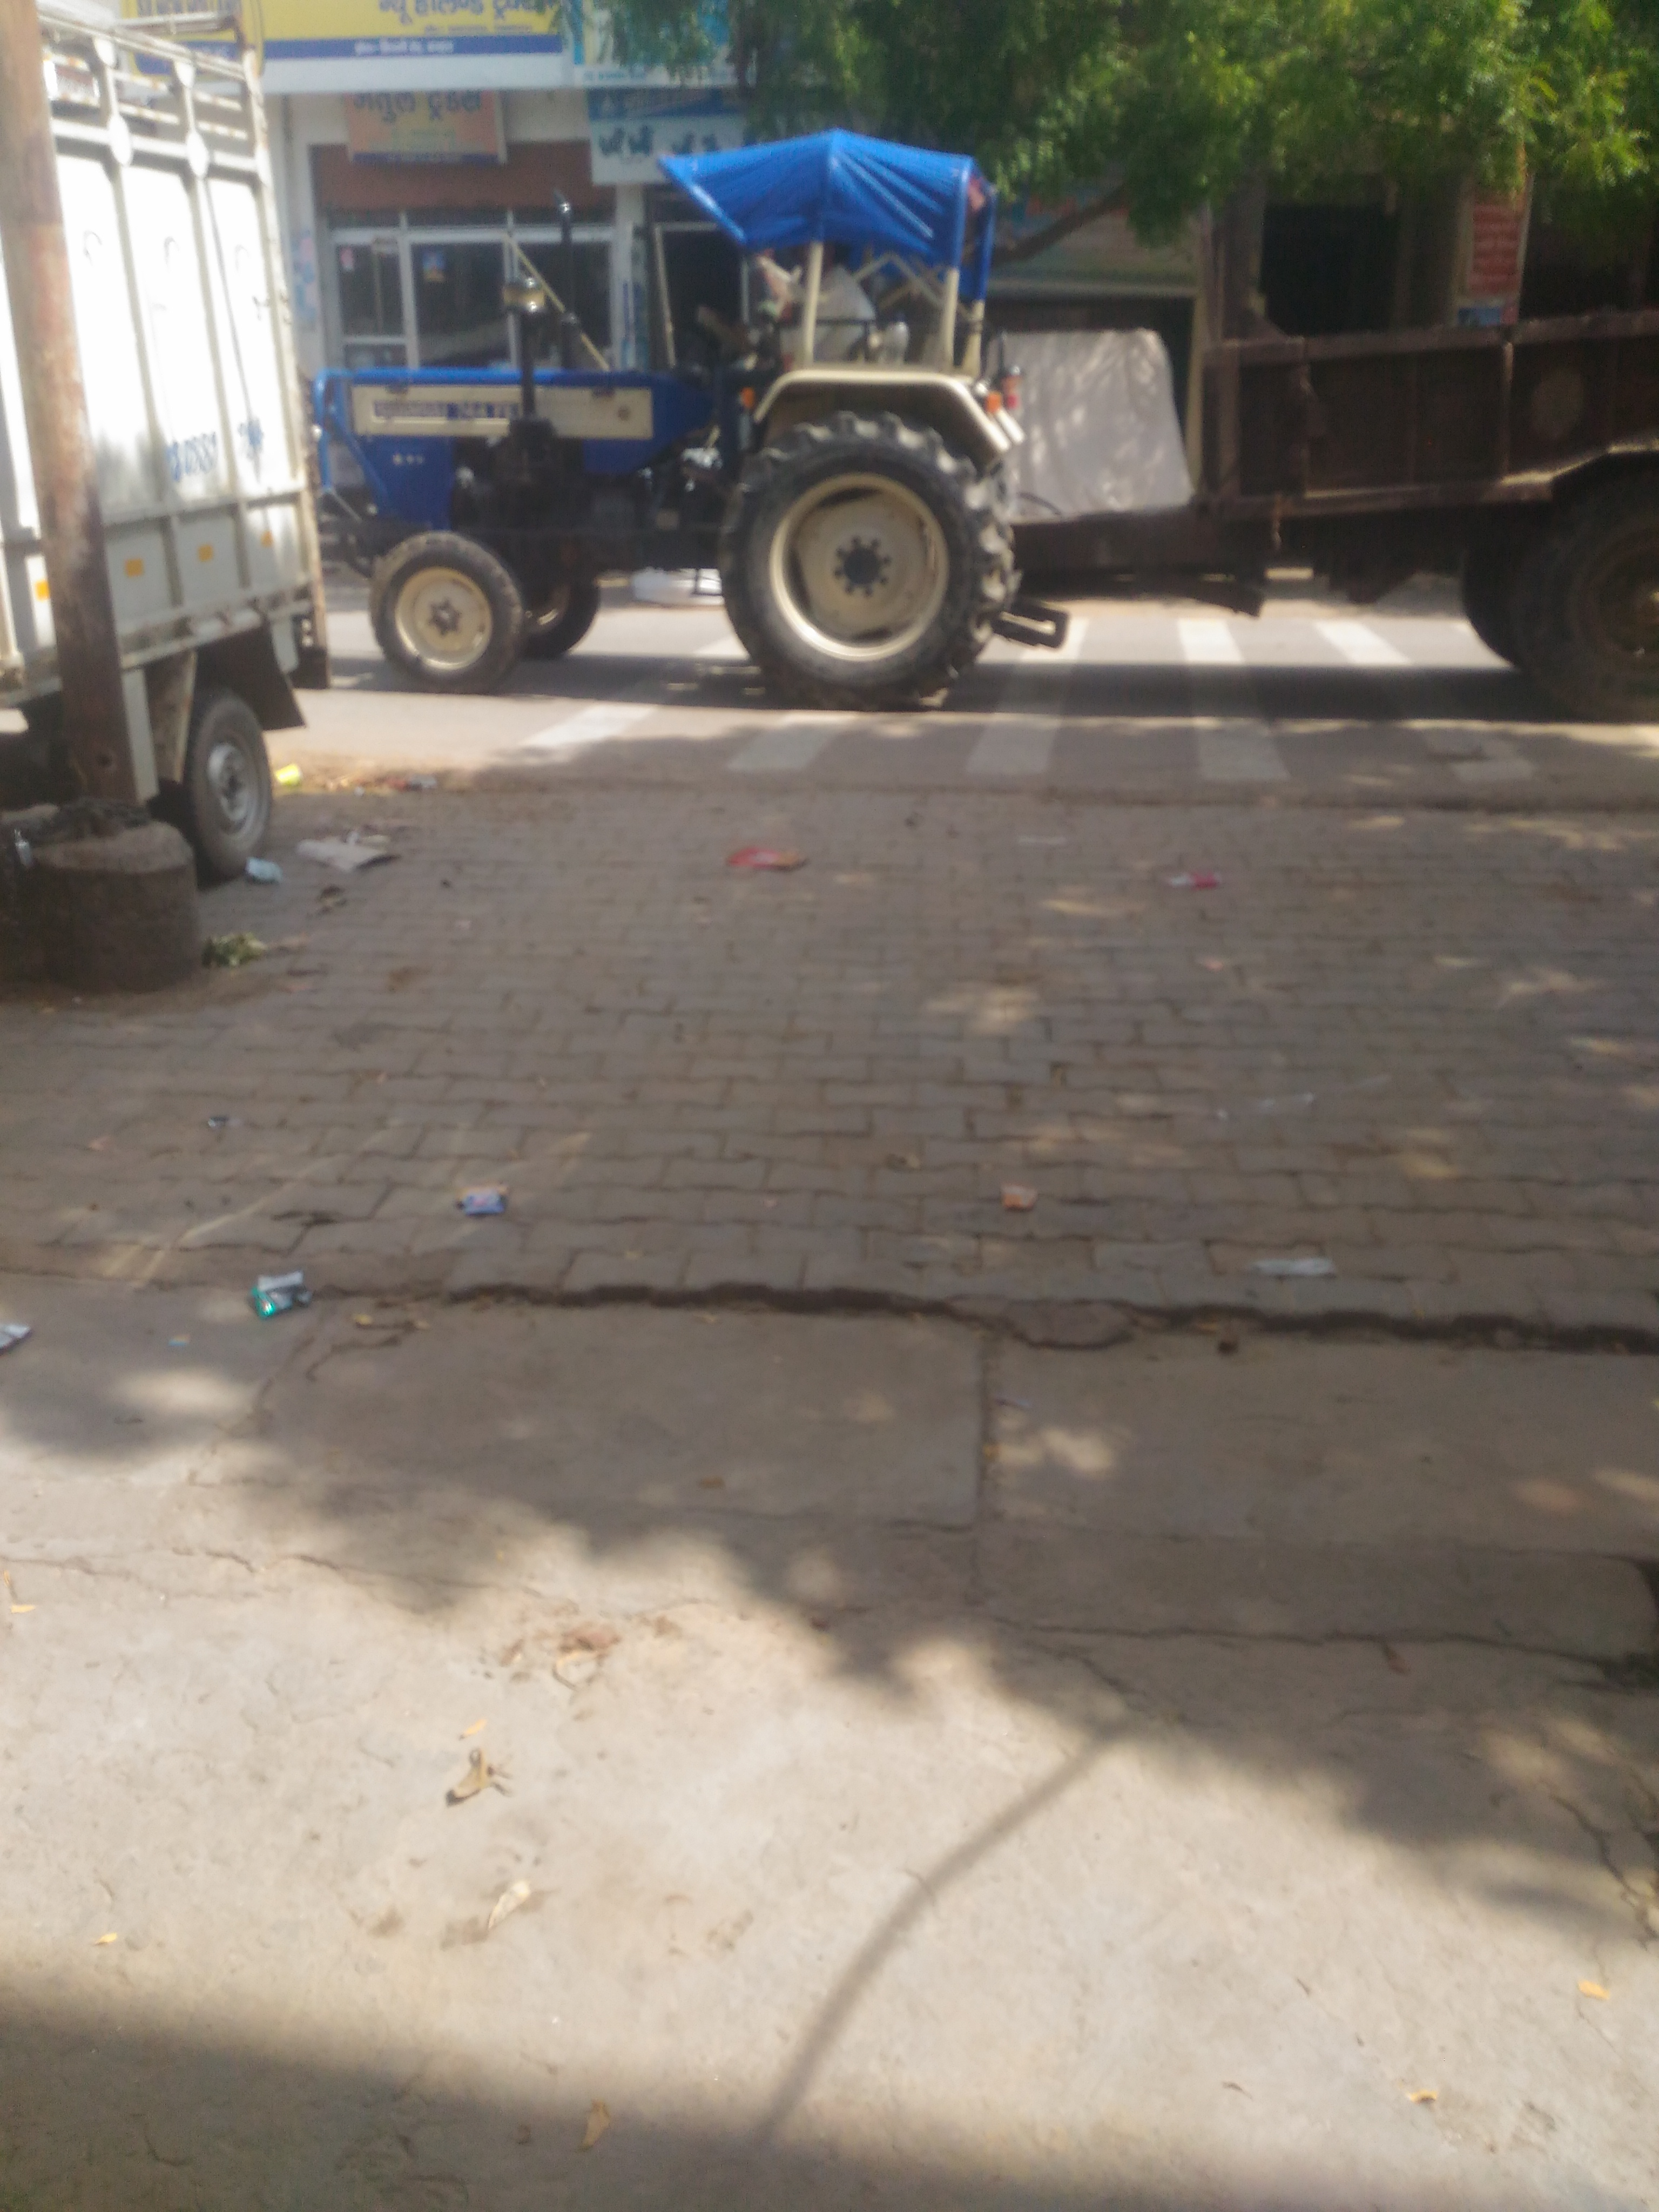tractor: (296, 124, 1659, 725)
